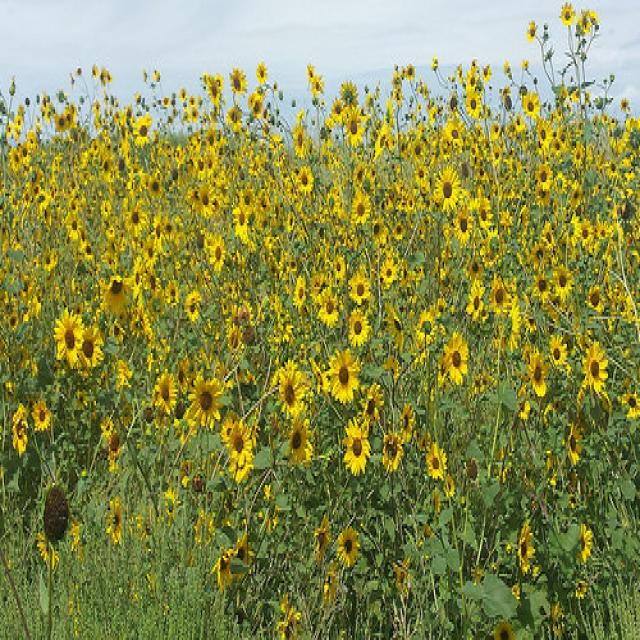sunflower: (33, 480, 77, 570), (189, 371, 228, 433), (435, 329, 474, 386), (227, 420, 257, 486), (8, 401, 39, 462), (329, 349, 361, 406), (71, 322, 103, 379), (278, 355, 306, 419), (54, 308, 84, 367), (284, 419, 316, 474), (583, 342, 613, 398), (344, 420, 372, 477), (151, 368, 183, 416), (103, 264, 133, 314), (512, 520, 536, 582), (523, 350, 550, 404), (528, 269, 560, 314), (102, 492, 127, 549), (563, 410, 586, 471), (434, 163, 462, 213), (380, 428, 408, 478), (382, 299, 406, 356), (420, 442, 450, 485), (359, 381, 386, 428), (488, 278, 516, 323), (336, 522, 362, 570), (309, 516, 332, 570), (515, 81, 541, 126), (448, 195, 472, 242), (569, 519, 593, 565), (465, 279, 487, 329), (315, 285, 339, 330), (463, 81, 485, 129), (346, 312, 373, 351), (552, 258, 573, 308), (415, 308, 440, 349), (532, 114, 555, 157), (293, 161, 318, 199), (213, 548, 235, 591), (397, 394, 420, 435), (31, 396, 55, 435), (340, 108, 365, 145), (444, 117, 469, 154), (586, 280, 608, 321), (386, 215, 409, 254), (372, 120, 394, 160), (236, 284, 254, 332), (290, 124, 312, 163), (348, 270, 373, 304), (496, 77, 515, 121), (351, 178, 368, 226), (102, 426, 127, 458), (192, 146, 214, 182), (245, 88, 268, 122), (182, 287, 202, 326), (476, 186, 494, 229), (480, 226, 504, 258), (290, 274, 308, 316), (229, 59, 246, 103), (148, 208, 170, 242), (459, 456, 481, 490), (378, 255, 397, 294), (621, 385, 640, 424), (224, 320, 242, 361), (233, 200, 251, 240), (547, 332, 565, 372), (368, 214, 387, 251), (531, 165, 556, 193), (205, 71, 223, 109), (336, 74, 356, 108), (576, 218, 596, 252), (591, 215, 612, 247), (146, 264, 162, 303), (132, 115, 151, 147), (32, 187, 54, 214), (115, 147, 133, 179), (562, 214, 580, 246), (77, 232, 95, 264), (493, 612, 513, 640), (96, 194, 115, 223), (211, 236, 227, 270), (197, 182, 214, 214), (230, 104, 246, 138), (126, 208, 148, 232), (530, 237, 548, 266), (331, 253, 347, 285), (109, 323, 127, 351), (604, 154, 622, 181), (98, 153, 116, 180), (525, 12, 540, 44), (166, 276, 181, 308), (619, 92, 635, 122), (39, 248, 57, 274), (408, 133, 428, 156), (66, 212, 80, 244), (253, 60, 269, 88), (149, 173, 165, 201), (467, 256, 483, 284), (572, 141, 586, 173), (218, 290, 231, 322), (194, 227, 212, 250), (8, 145, 23, 172), (449, 85, 461, 118), (248, 152, 260, 184), (559, 0, 573, 27), (7, 305, 20, 333), (426, 98, 440, 123), (302, 62, 318, 80), (284, 211, 298, 231), (405, 60, 417, 83), (171, 142, 184, 163), (54, 113, 68, 131), (89, 62, 102, 80), (161, 90, 172, 110), (416, 167, 426, 188), (177, 83, 190, 99), (190, 107, 200, 125)
